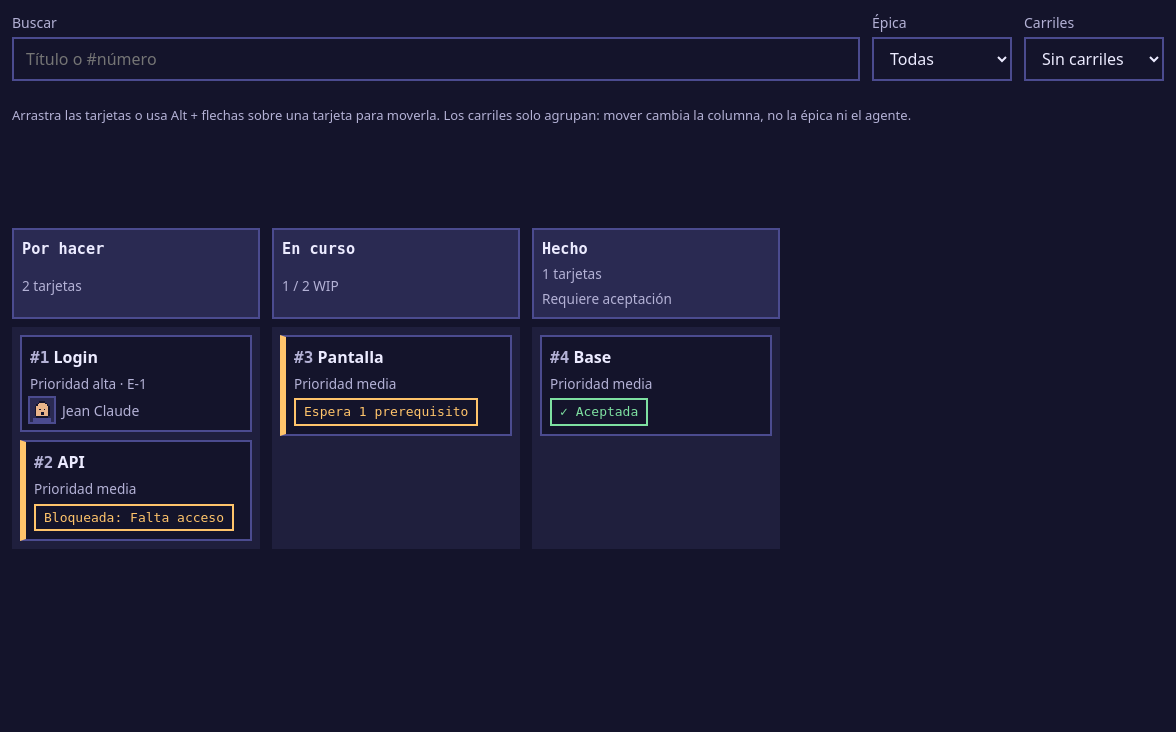
Test: Board › un aviso de un agente del proyecto recarga tarjetas, columna, bloqueo y reclamo
This screenshot has width=1176, height=732.
Check: the button "#2 API" is shown, box [34,450,85,476]
Estado local que no debe perderse con la recarga.
Select "Por agente" in the dropdown labelled "Carriles" at coordinates (1094, 59), box [1024,37,1164,81]
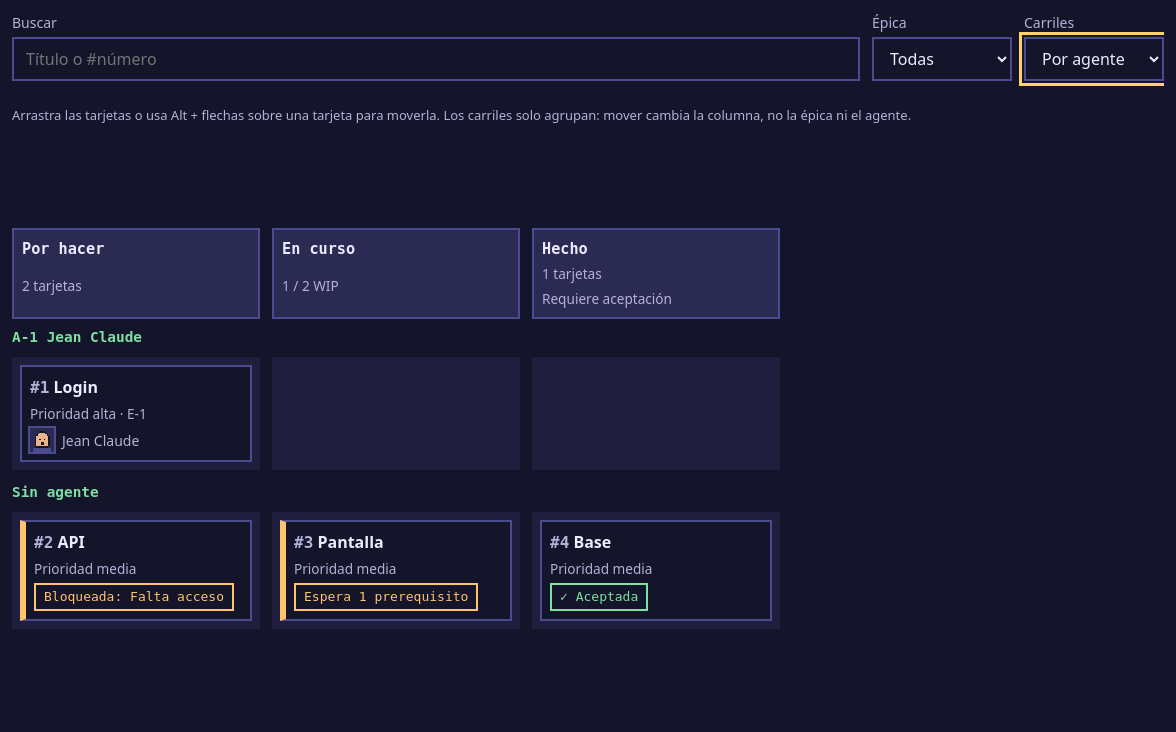
Type "n" into the search field labelled "Buscar" at coordinates (436, 59), box [12,37,860,81]
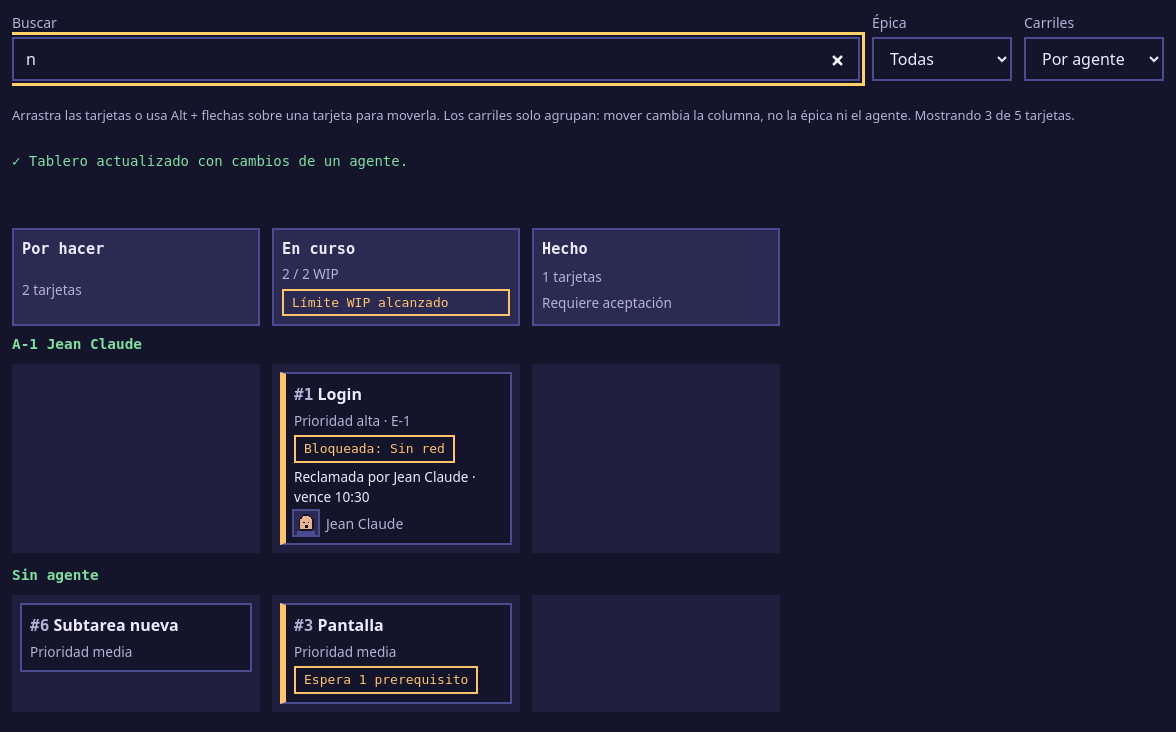
Check: the button "#6 Subtarea nueva" is shown, box [30,613,179,638]
Check: the text "Bloqueada: Sin red" is shown, box [294,435,455,463]
Check: the text "Reclamada por Jean Claude · vence 10:30" is shown, box [294,467,502,508]
